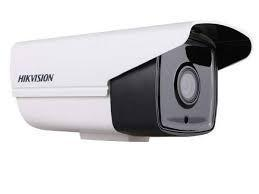tutu: (8, 14, 255, 152)
